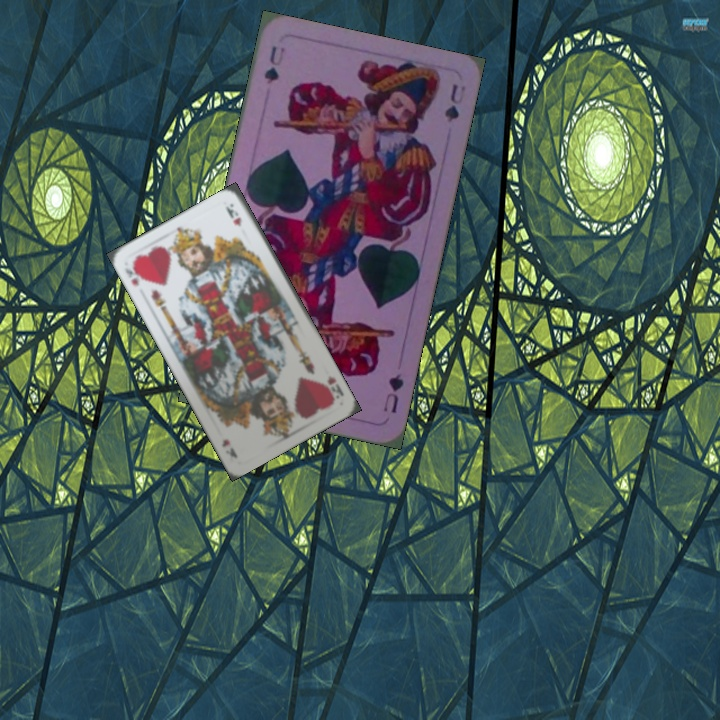GU: (379, 369, 407, 416), (260, 42, 288, 87)
HK: (121, 258, 146, 288), (323, 372, 346, 401)
